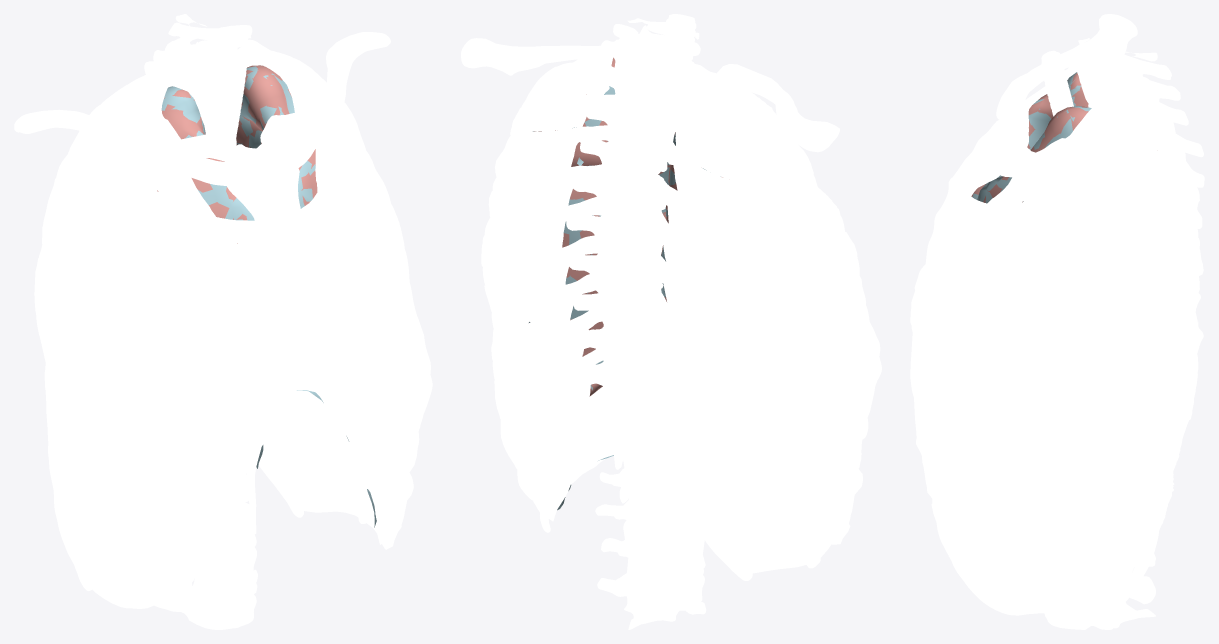
Rendered from pleura.glb.
3 renders of one model, left to right at view 1: azimuth 30°, elevation 25°; view 2: azimuth 150°, elevation 25°; view 3: azimuth 270°, elevation 25°, orthographic. The views are drawn at different scales.
Visible parts, largest first — view 1: External intercostal muscles.r, Internal intercostal muscles.r, Diaphragm, External intercostal muscles.l, Internal intercostal muscles.l, Body of sternum, Manubrium of sternum, Clavicle.r, Costal cartilage of seventh rib.r, Clavicle.l, Fourth rib.r, Second rib.r (+39 smaller); view 2: External intercostal muscles.r, External intercostal muscles.l, Seventh rib.r, Sixth rib.r, Eighth rib.r, Ninth rib.r, Fifth rib.r, Tenth rib.r, Vertebra L3, Clavicle.r, Fourth rib.r, Vertebra T6 (+35 smaller); view 3: External intercostal muscles.l, Internal intercostal muscles.l, Sixth rib.l, Seventh rib.l, Fifth rib.l, Fourth rib.l, Eighth rib.l, Clavicle.l, Ninth rib.l, Third rib.l, Clavicle.r, Tenth rib.l (+30 smaller).
Boxes of the visible parts, x1,y1,x2,y2 form: External intercostal muscles.r: (34, 77, 215, 578); Internal intercostal muscles.r: (50, 155, 273, 593); Diaphragm: (207, 371, 381, 593); External intercostal muscles.l: (273, 51, 430, 435); Internal intercostal muscles.l: (305, 137, 422, 525); Body of sternum: (261, 218, 328, 385); Manubrium of sternum: (225, 137, 301, 230); Clavicle.r: (14, 109, 236, 162); Costal cartilage of seventh rib.r: (145, 382, 294, 494); Clavicle.l: (260, 32, 390, 147); Fourth rib.r: (57, 161, 210, 347); Second rib.r: (100, 69, 219, 241); External intercostal muscles.r: (659, 73, 880, 561); External intercostal muscles.l: (481, 50, 613, 511); Seventh rib.r: (647, 247, 881, 381); Sixth rib.r: (648, 210, 869, 326); Eighth rib.r: (649, 287, 868, 439); Ninth rib.r: (659, 327, 856, 495); Fifth rib.r: (652, 175, 859, 279); Tenth rib.r: (664, 362, 848, 543); Vertebra L3: (601, 532, 705, 612); Clavicle.r: (716, 64, 839, 152); Fourth rib.r: (661, 137, 844, 232); Vertebra T6: (566, 211, 660, 296); External intercostal muscles.l: (932, 97, 1199, 611); Internal intercostal muscles.l: (911, 207, 1138, 598); Sixth rib.l: (929, 235, 1199, 427); Seventh rib.l: (948, 313, 1198, 479); Fifth rib.l: (925, 220, 1185, 376); Fourth rib.l: (938, 158, 1171, 326); Eighth rib.l: (973, 354, 1198, 527); Clavicle.l: (996, 122, 1137, 201); Ninth rib.l: (1012, 399, 1193, 570); Third rib.l: (960, 129, 1151, 271); Clavicle.r: (996, 14, 1137, 127); Tenth rib.l: (1033, 440, 1182, 608).
Bounding box in the file's own units: 0.3 × 0.45 × 0.2138.
